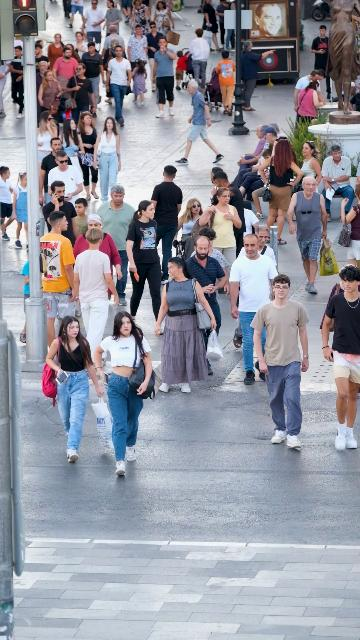person: (249, 273, 310, 450), (93, 311, 153, 477), (45, 316, 104, 463), (154, 257, 217, 394), (229, 234, 278, 386), (320, 264, 360, 450), (74, 227, 119, 348), (39, 210, 77, 349), (285, 174, 328, 295), (257, 136, 304, 245), (94, 185, 135, 306), (125, 200, 164, 323), (184, 235, 229, 336), (175, 81, 225, 165), (150, 165, 183, 286), (199, 187, 243, 275), (229, 125, 278, 189), (72, 214, 123, 274), (211, 170, 245, 253), (192, 226, 231, 296), (240, 40, 277, 111), (321, 145, 355, 222), (93, 116, 121, 209), (42, 181, 80, 247), (45, 150, 85, 210), (39, 137, 72, 205), (105, 45, 132, 127), (226, 205, 260, 266), (76, 111, 99, 200), (152, 38, 177, 119), (232, 124, 267, 179), (80, 42, 106, 115), (66, 63, 96, 125), (0, 45, 25, 118), (238, 149, 272, 202), (59, 118, 85, 186), (177, 198, 205, 260), (37, 110, 59, 184), (37, 70, 65, 128), (292, 141, 322, 195), (311, 25, 332, 101), (251, 151, 273, 220), (296, 80, 327, 128), (10, 171, 29, 249), (293, 70, 326, 113), (215, 49, 236, 116), (189, 28, 211, 88), (202, 0, 225, 53), (102, 25, 127, 72), (144, 21, 165, 75), (53, 47, 78, 92), (0, 166, 14, 241), (126, 25, 148, 72), (151, 1, 175, 40), (255, 224, 277, 266), (19, 255, 29, 344), (130, 59, 148, 107), (102, 0, 124, 36), (71, 198, 89, 239), (175, 51, 193, 91), (48, 33, 65, 71), (210, 167, 227, 198), (68, 0, 85, 29), (35, 47, 51, 74), (121, 0, 133, 36), (64, 44, 81, 66), (36, 61, 49, 89), (74, 32, 89, 56), (268, 123, 282, 141), (108, 44, 118, 61), (36, 40, 44, 51)
